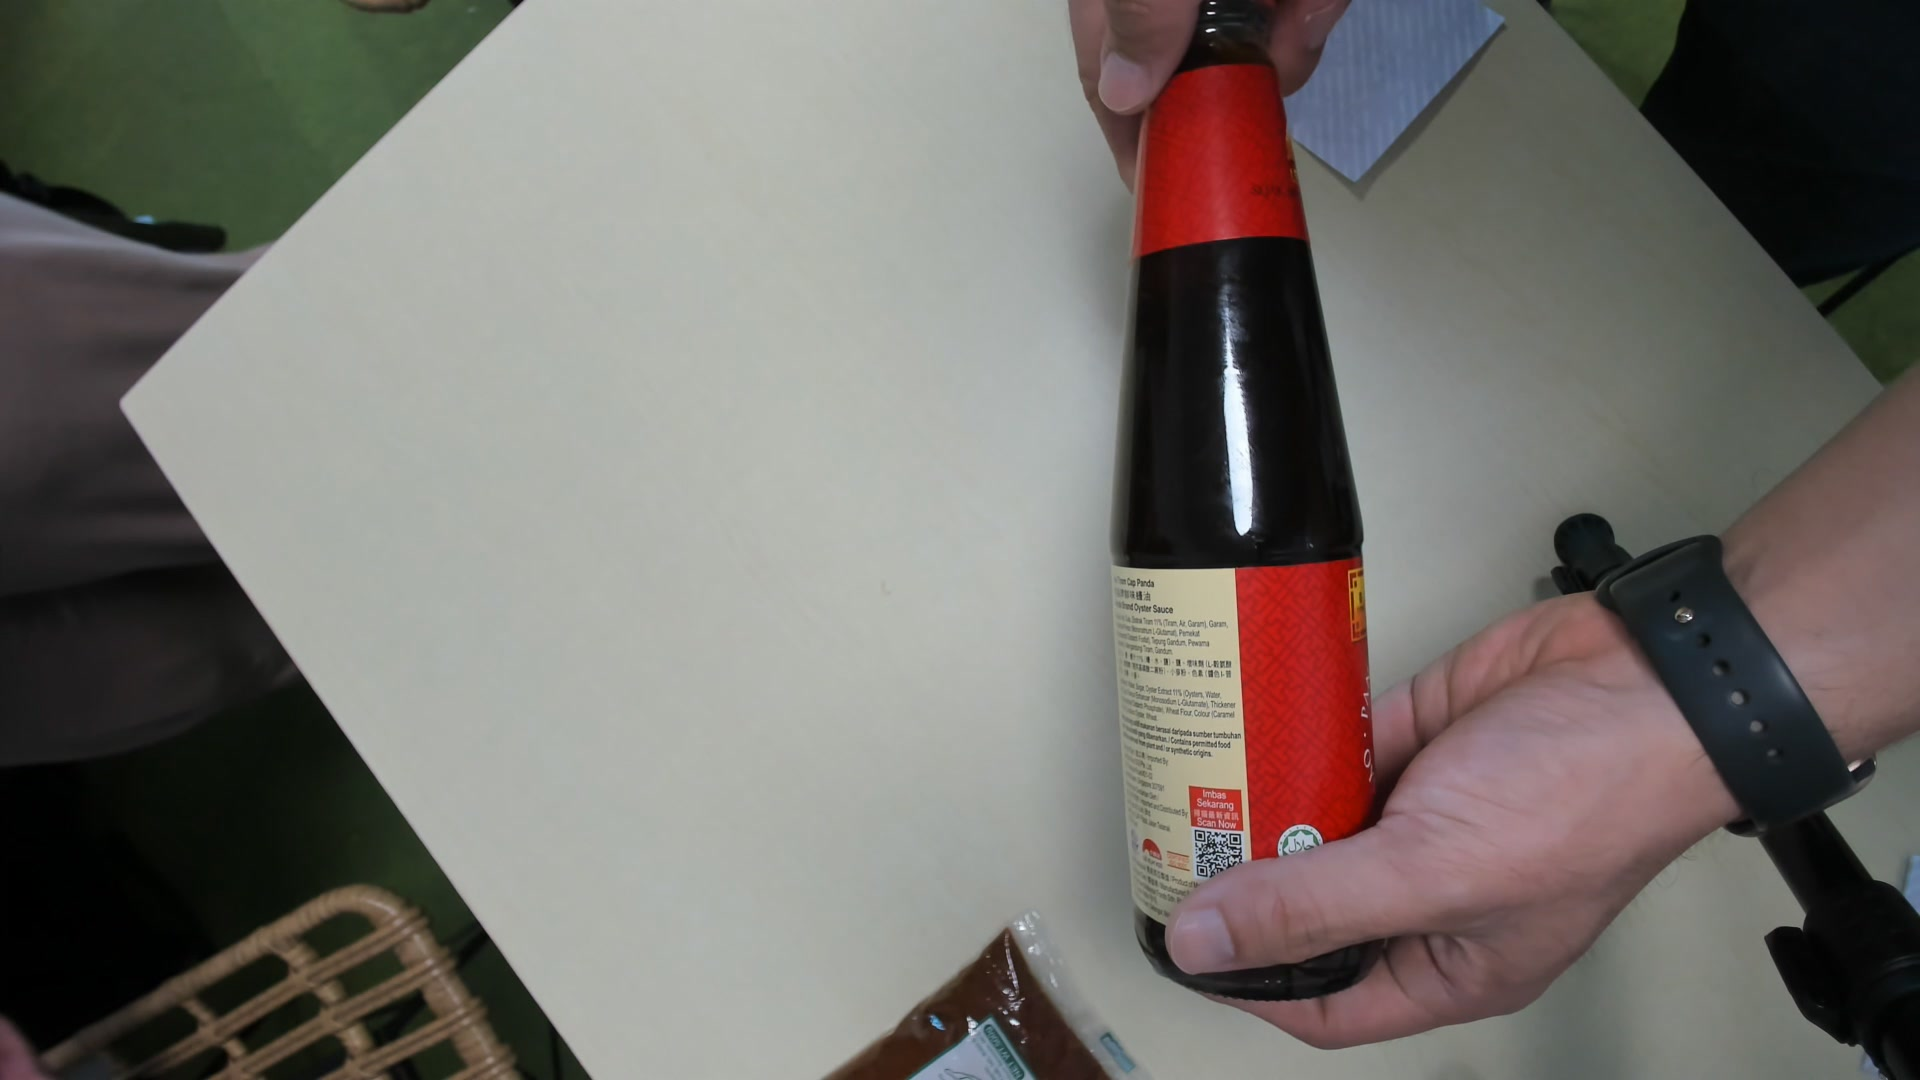OtherSauceDressingSoupbasePaste_500-599g_Halal_NonHealthy: (1098, 11, 1383, 989)
